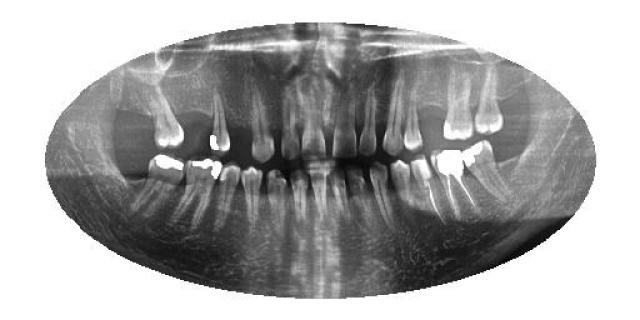Fillings: (169, 158, 221, 228), (134, 152, 185, 218), (462, 139, 512, 201), (208, 89, 232, 155)
Implant: (435, 148, 475, 218)
